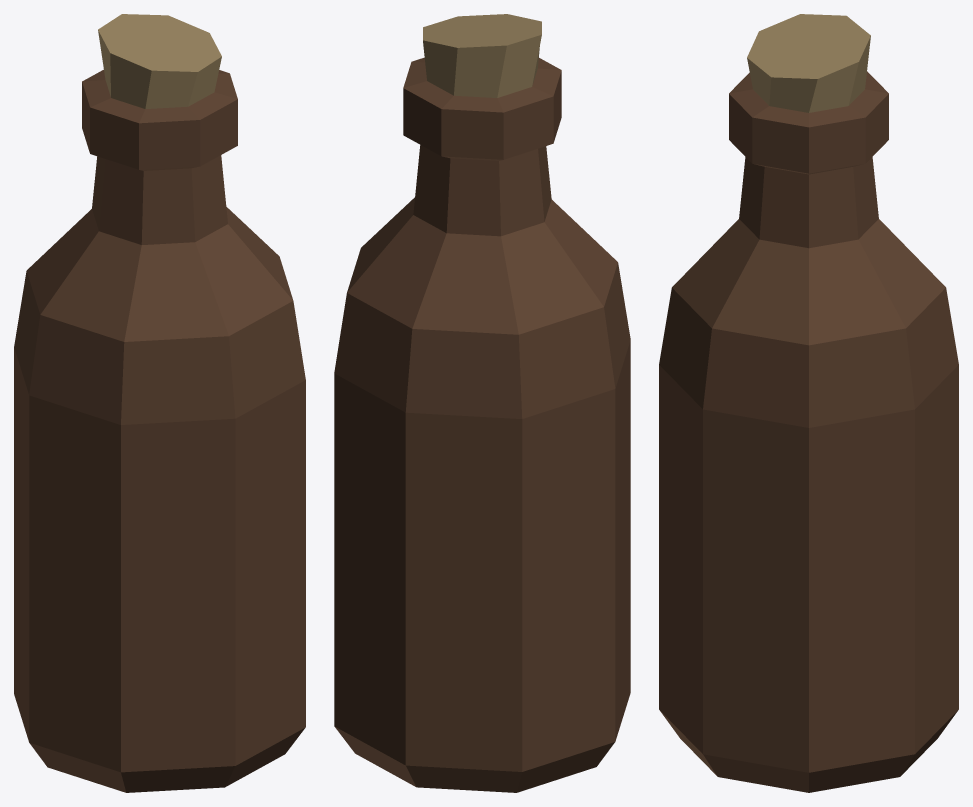
The model's file is SM_Item_Bottle_01.glb.
The picture shows the model from 3 angles, left to right: view 1: azimuth 30°, elevation 25°; view 2: azimuth 150°, elevation 25°; view 3: azimuth 270°, elevation 25°; orthographic projection. The views are drawn at different scales.
Visible parts, largest first — view 1: SM_Item_Bottle_01; view 2: SM_Item_Bottle_01; view 3: SM_Item_Bottle_01.
Boxes of the visible parts, bbox=[...] form: SM_Item_Bottle_01: bbox=[14, 14, 305, 792]; SM_Item_Bottle_01: bbox=[334, 14, 630, 792]; SM_Item_Bottle_01: bbox=[659, 14, 958, 792].
Size of the model in its own units: 0.00129 by 0.00332 by 0.00129.
